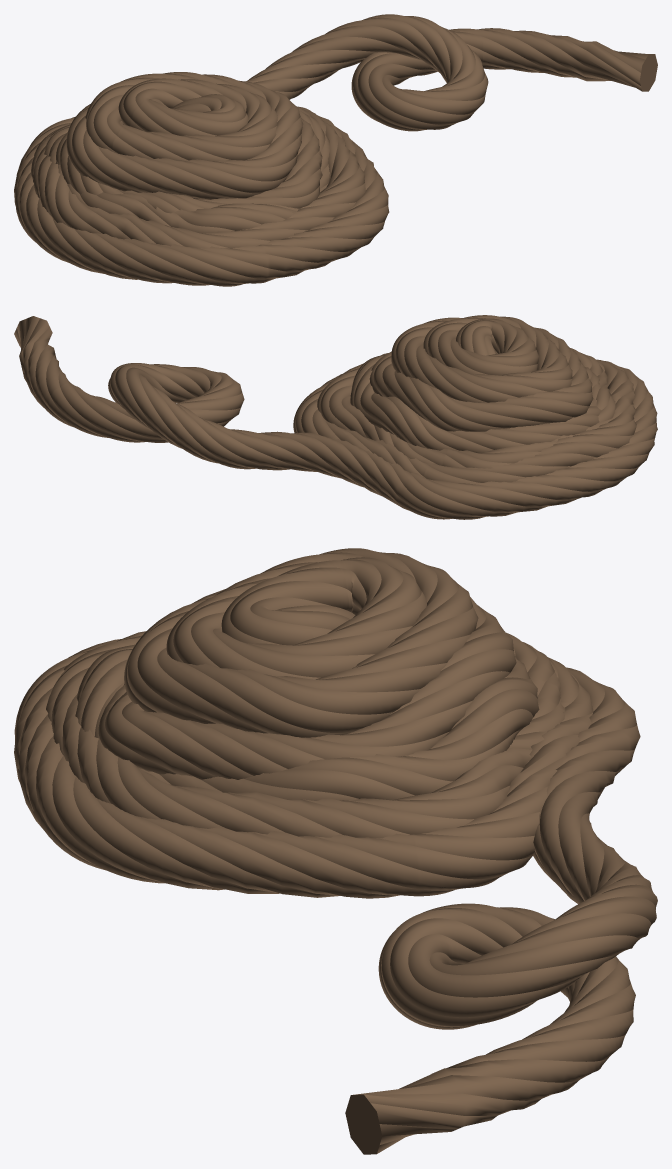
Rendered from rope_pile.glb.
The picture shows the model from 3 angles, top to bottom: view 1: azimuth 30°, elevation 25°; view 2: azimuth 150°, elevation 25°; view 3: azimuth 270°, elevation 25°; orthographic projection. The views are drawn at different scales.
Visible parts, largest first — view 1: rope_pile:sweep2; view 2: rope_pile:sweep2; view 3: rope_pile:sweep2.
Boxes of the visible parts, box(x1,y1,x2,y2) form: rope_pile:sweep2: box(14, 14, 657, 286); rope_pile:sweep2: box(14, 315, 657, 519); rope_pile:sweep2: box(14, 548, 657, 1154).
Size of the model in its own units: 0.1391 by 0.0252 by 0.0753.
